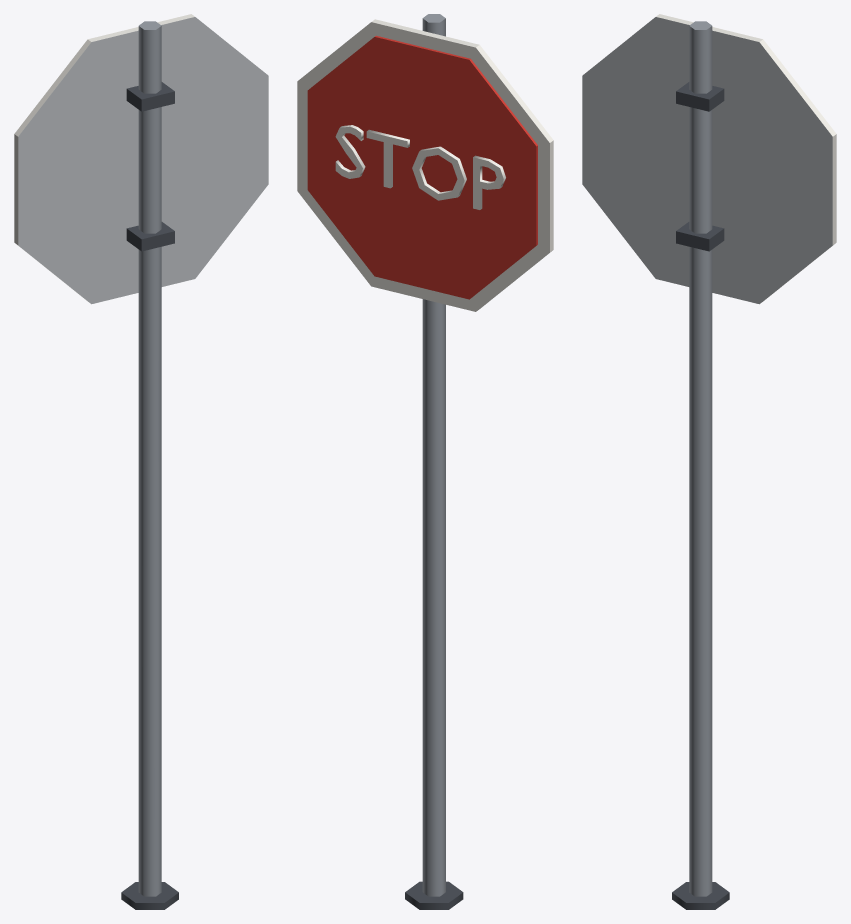
Rendered from sign_stop.glb.
3 renders of one model, left to right at view 1: azimuth 30°, elevation 25°; view 2: azimuth 150°, elevation 25°; view 3: azimuth 330°, elevation 25°, orthographic.
Parts seen in each view (by area): view 1: sign_stop__mesh; view 2: sign_stop__mesh; view 3: sign_stop__mesh.
Part boxes in pixels (bbox=[...]): sign_stop__mesh: bbox=[14, 14, 268, 909]; sign_stop__mesh: bbox=[297, 14, 553, 909]; sign_stop__mesh: bbox=[582, 14, 836, 909].
Bounding box in the file's own units: 0.7502 × 2.5 × 0.15.
Materials: 1 (1 with a texture image).
